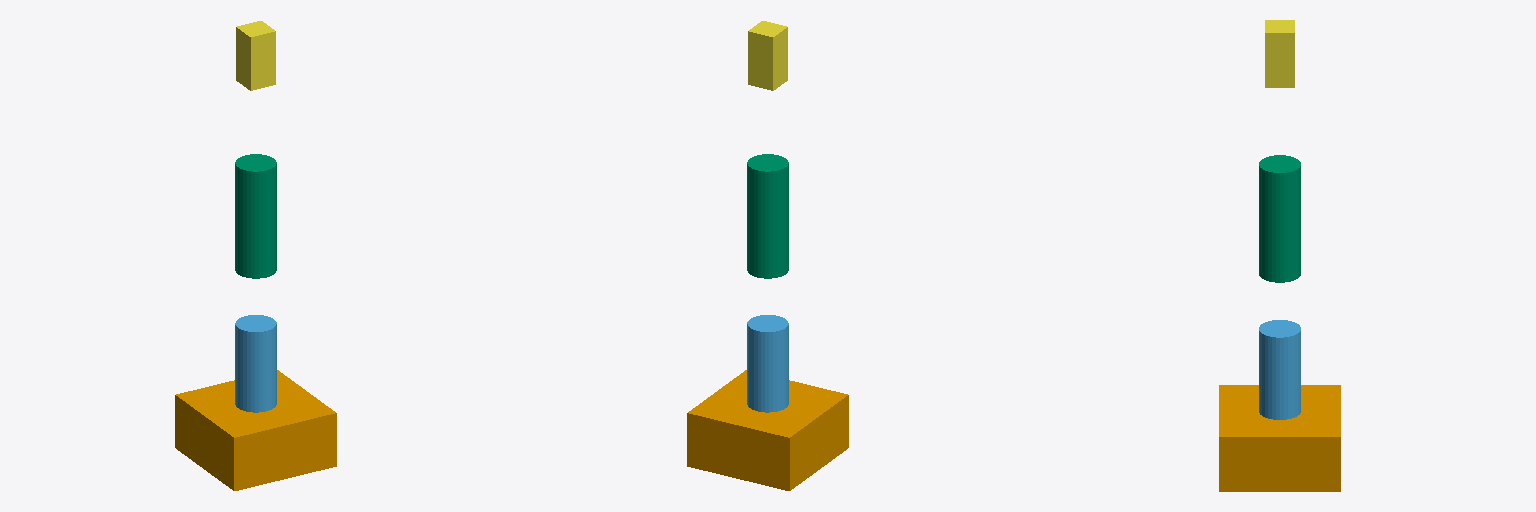
URDF robot description (SimpleRobotArm):
<?xml version="1.0"?>
<robot  name="SimpleRobotArm" >
 <link  name="base" >
  <visual >
   <origin  rpy="0.0 0.0 0.0"  xyz="0.0 -0.0 0.0" />
   <geometry >
    <box  size="0.2 0.2 0.1" />
   </geometry>
  </visual>
  <visual >
   <origin  rpy="0.0 0.0 0.0"  xyz="0.0 -0.0 0.1" />
   <geometry >
    <sphere  radius="0.025" />
   </geometry>
  </visual>
  <visual >
   <origin  rpy="0.0 0.0 0.0"  xyz="0.0 -0.0 0.4" />
   <geometry >
    <sphere  radius="0.0249999985" />
   </geometry>
  </visual>
  <visual >
   <origin  rpy="0.0 0.0 0.0"  xyz="0.0 -0.0 0.700000048" />
   <geometry >
    <sphere  radius="0.0249999985" />
   </geometry>
  </visual>
 </link>
 <joint  type="revolute"  name="joint.hinge_from_base" >
  <parent  link="base" />
  <child  link="shoulder" />
  <origin  rpy="-0.0 0.0 -0.0"  xyz="0.0 -0.0 0.1" />
  <axis  xyz="0.0 -1.0 0.0" />
 </joint>
 <link  name="shoulder" >
  <visual >
   <origin  rpy="0.0 0.0 0.0"  xyz="0.0 -0.0 0.0" />
   <geometry >
    <cylinder  length="0.2"  radius="0.035" />
   </geometry>
  </visual>
 </link>
 <joint  type="revolute"  name="joint.hinge_from_shoulder" >
  <parent  link="shoulder" />
  <child  link="elbow" />
  <origin  rpy="-0.0 0.0 -0.0"  xyz="0.0 -0.0 0.30000000000000004" />
  <axis  xyz="0.0 -1.0 0.0" />
 </joint>
 <link  name="elbow" >
  <visual >
   <origin  rpy="0.0 0.0 0.0"  xyz="0.0 -0.0 0.0" />
   <geometry >
    <cylinder  length="0.2"  radius="0.035" />
   </geometry>
  </visual>
 </link>
 <joint  type="revolute"  name="joint.hinge_from_elbow" >
  <parent  link="elbow" />
  <child  link="hand" />
  <origin  rpy="-0.0 0.0 -0.0"  xyz="0.0 -0.0 0.300000048" />
  <axis  xyz="0.0 -1.0 0.0" />
 </joint>
 <link  name="hand" >
  <visual >
   <origin  rpy="0.0 0.0 0.0"  xyz="0.0 -0.0 0.0" />
   <geometry >
    <box  size="0.05 0.05 0.1" />
   </geometry>
  </visual>
 </link>
</robot>

--- What the picture shows (computed from the rendered views, not written in the file) ---
The picture shows the robot from 3 angles, left to right: view 1: azimuth 30°, elevation 25°; view 2: azimuth 150°, elevation 25°; view 3: azimuth 270°, elevation 25°; orthographic projection.
Model SimpleRobotArm with 4 links and 3 joints (3 revolute), rooted at base, posed every joint at zero.
Links seen in each view (by area): view 1: base, elbow, shoulder, hand; view 2: base, elbow, shoulder, hand; view 3: base, elbow, shoulder, hand.
Link boxes in pixels (box(x1,y1,x2,y2)): base: box(175, 370, 336, 490); elbow: box(235, 154, 276, 278); shoulder: box(235, 315, 276, 412); hand: box(236, 21, 275, 90); base: box(687, 370, 848, 490); elbow: box(747, 154, 788, 278); shoulder: box(747, 315, 788, 412); hand: box(748, 21, 787, 90); base: box(1219, 385, 1340, 491); elbow: box(1259, 155, 1300, 282); shoulder: box(1259, 320, 1300, 419); hand: box(1265, 20, 1294, 87).
Bounding box of the posed robot: 0.2 × 0.2 × 0.8 m (x, y, z).
Geometry: primitives only (box / cylinder / sphere), no mesh files.